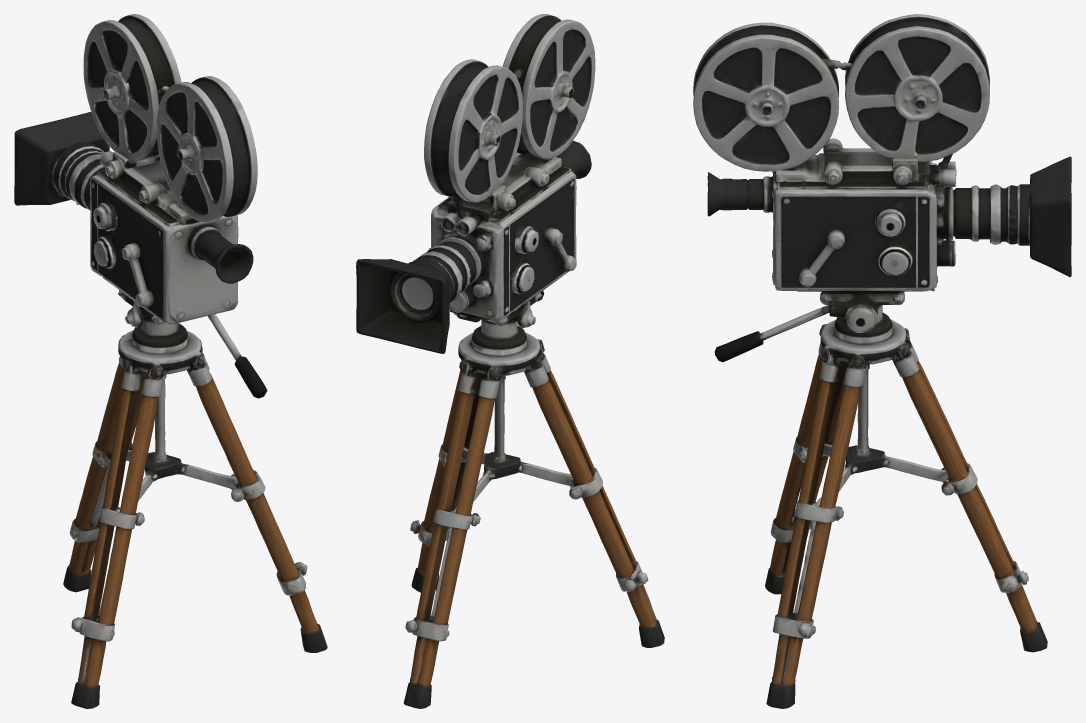
Rendered from ts_bolex.glb.
3 views of the same model, side by side, from view 1: azimuth 30°, elevation 25°; view 2: azimuth 150°, elevation 25°; view 3: azimuth 270°, elevation 25° (orthographic). The views are drawn at different scales.
Parts seen in each view (by area): view 1: tripo_node_64a1029b-f631-41e8-a54a-3c8942277475; view 2: tripo_node_64a1029b-f631-41e8-a54a-3c8942277475; view 3: tripo_node_64a1029b-f631-41e8-a54a-3c8942277475.
Part boxes in pixels (x1=…): tripo_node_64a1029b-f631-41e8-a54a-3c8942277475: x1=14, y1=14, x2=327, y2=708; tripo_node_64a1029b-f631-41e8-a54a-3c8942277475: x1=356, y1=14, x2=664, y2=708; tripo_node_64a1029b-f631-41e8-a54a-3c8942277475: x1=693, y1=14, x2=1071, y2=708.
Size of the model in its own units: 0.4365 by 1 by 0.5455.
Materials: 1 (1 with a texture image).
